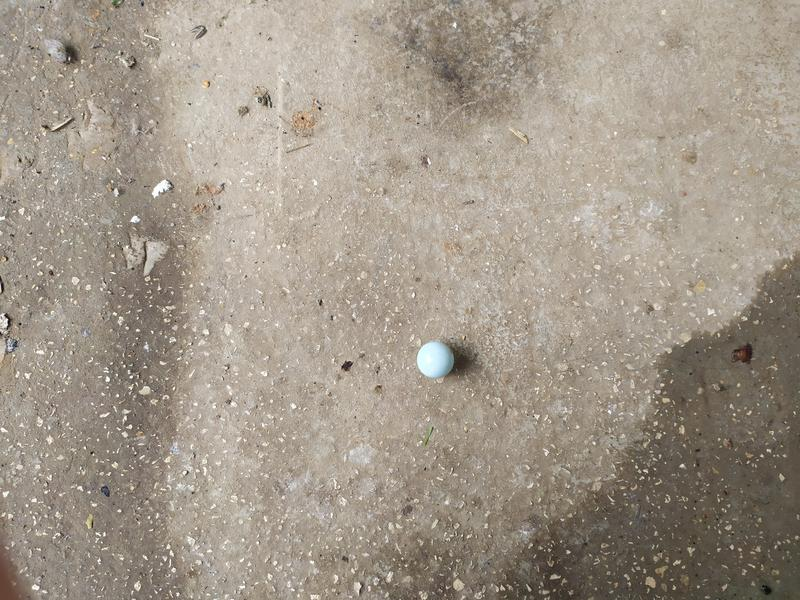Warning: (415, 339, 457, 380)
